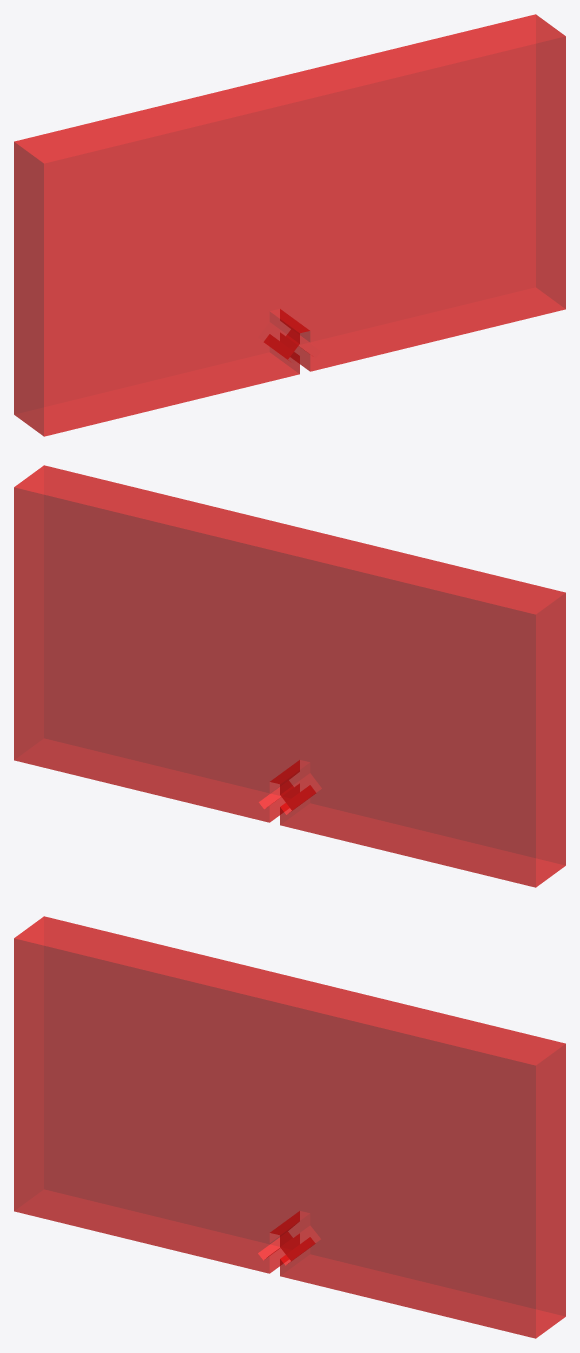
File: Walls2.glb
3 renders of one model, top to bottom at view 1: azimuth 30°, elevation 25°; view 2: azimuth 150°, elevation 25°; view 3: azimuth 330°, elevation 25°, orthographic.
Parts seen in each view (by area): view 1: Cube; view 2: Cube; view 3: Cube.
Boxes of the visible parts, x1,y1,x2,y2 form: Cube: [14, 14, 565, 436]; Cube: [14, 465, 565, 887]; Cube: [14, 916, 565, 1338].
Size of the model in its own units: 20 by 10 by 2.
